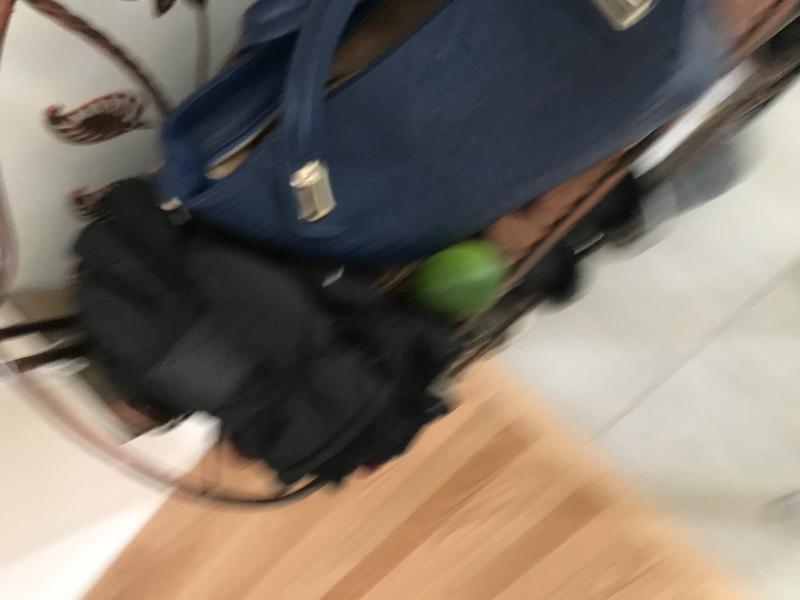lime: (403, 235, 512, 322)
